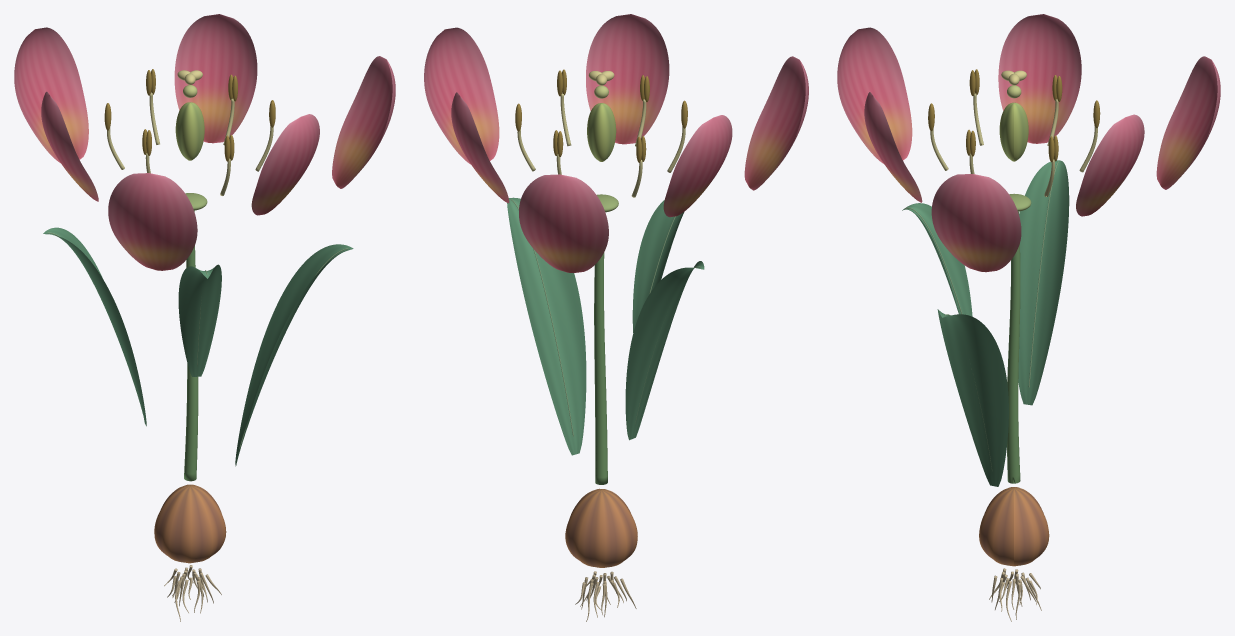
Rendered from tulipan_rastlina_rozlozena.glb.
The picture shows the model from 3 angles, left to right: view 1: azimuth 30°, elevation 25°; view 2: azimuth 150°, elevation 25°; view 3: azimuth 270°, elevation 25°; orthographic projection.
Visible parts, largest first — view 1: part_33, part_30, part_32, part_28, part_0, part_22, part_29, part_26, part_24, part_31, part_21, part_53; view 2: part_22, part_29, part_32, part_28, part_24, part_30, part_0, part_31, part_26, part_21, part_33, part_53; view 3: part_24, part_31, part_22, part_28, part_30, part_32, part_0, part_33, part_21, part_29, part_26, part_53.
Boxes of the visible parts, x1,y1,x2,y2 form: part_33: [174, 14, 257, 143]; part_30: [108, 173, 197, 270]; part_32: [14, 27, 88, 162]; part_28: [332, 56, 395, 188]; part_0: [154, 484, 226, 563]; part_22: [235, 244, 353, 466]; part_29: [251, 114, 319, 215]; part_26: [178, 264, 221, 376]; part_24: [43, 227, 146, 426]; part_31: [41, 91, 98, 201]; part_21: [184, 210, 198, 481]; part_53: [175, 102, 204, 160]; part_22: [507, 197, 586, 455]; part_29: [586, 14, 669, 144]; part_32: [519, 174, 608, 272]; part_28: [424, 27, 499, 164]; part_24: [625, 261, 704, 440]; part_30: [744, 56, 808, 190]; part_0: [565, 488, 637, 567]; part_31: [663, 115, 732, 217]; part_26: [632, 200, 684, 332]; part_21: [594, 252, 607, 484]; part_33: [451, 92, 509, 203]; part_53: [587, 103, 616, 161]; part_24: [1018, 160, 1069, 405]; part_31: [998, 14, 1081, 143]; part_22: [937, 309, 1008, 486]; part_28: [931, 174, 1021, 272]; part_30: [837, 27, 912, 163]; part_32: [1156, 56, 1220, 189]; part_0: [979, 487, 1049, 566]; part_33: [1076, 114, 1144, 216]; part_21: [1007, 211, 1020, 483]; part_29: [864, 92, 922, 202]; part_26: [902, 203, 972, 316]; part_53: [999, 102, 1028, 161].
Size of the model in its own units: 0.2823 by 0.4484 by 0.2895.
